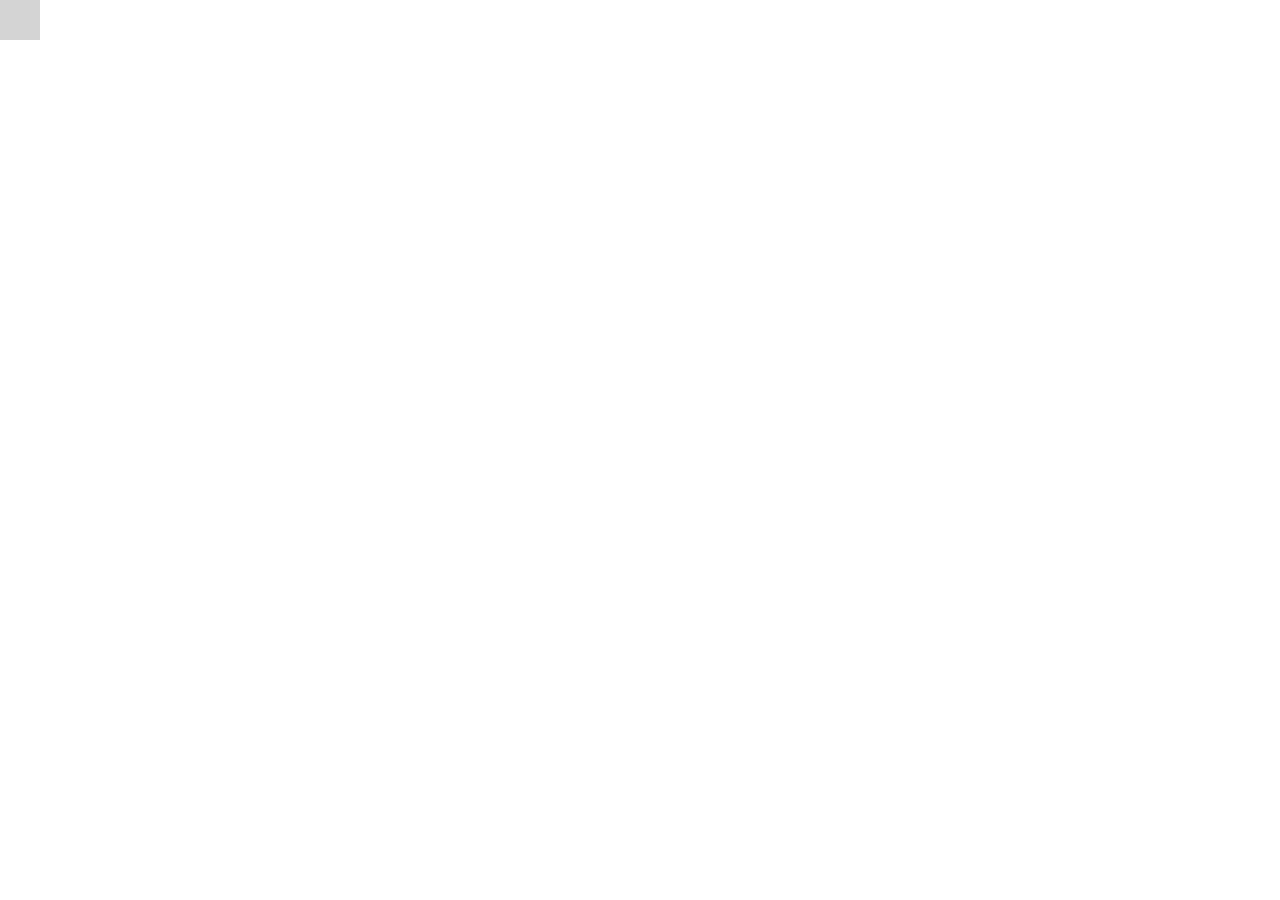
Scenario: AvatarUploadDialog (F-34, F-35, F-38; B-96, B-97) › F-34, B-33: opens as a modal with the file field focused, the current picture shown and nothing to save
Click the button named "Change profile picture": click(20, 20) [0,0,40,40]
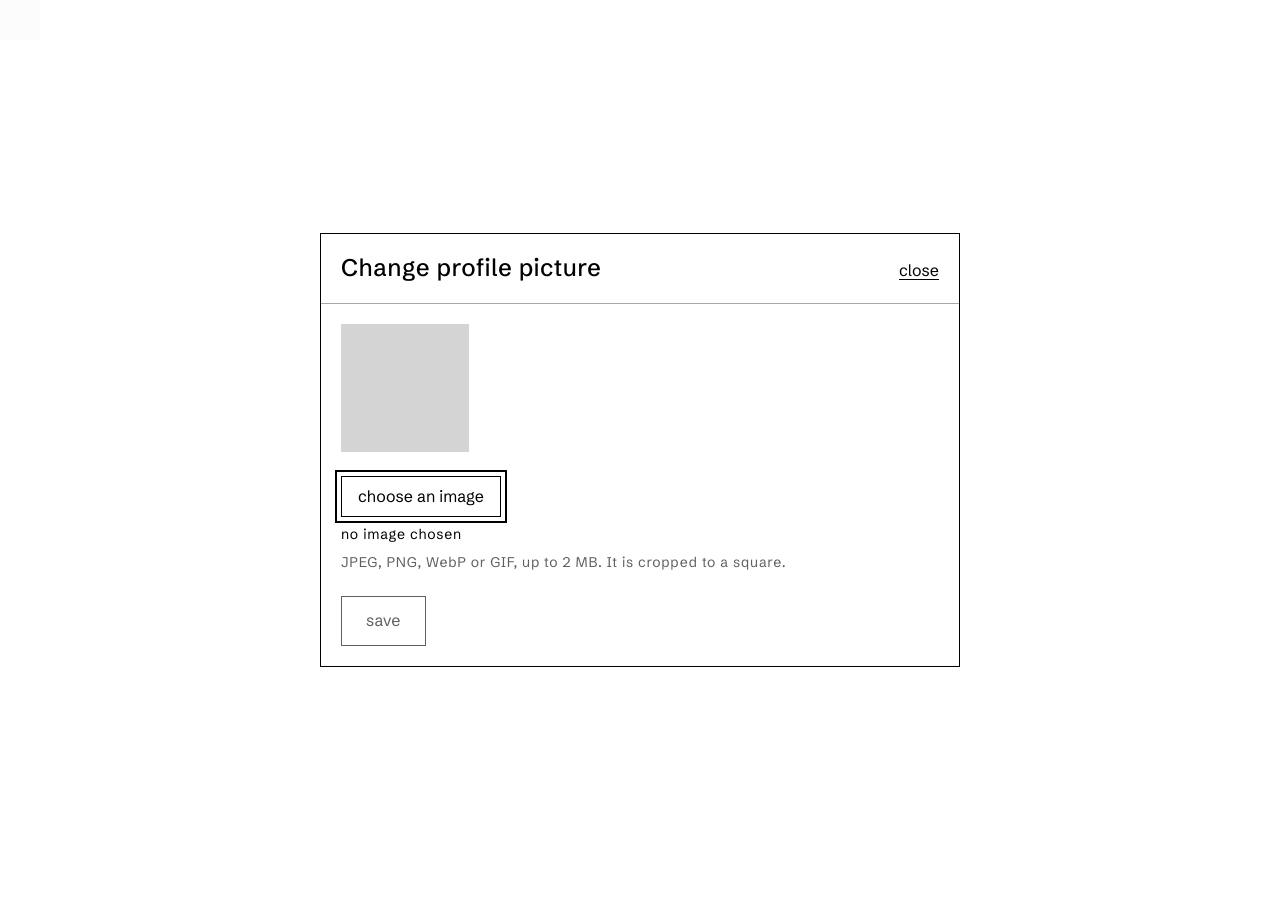
Expected: the text "no image chosen" is shown, [341,525,462,543]
Expected: the button "save" is disabled, [341,596,426,646]
